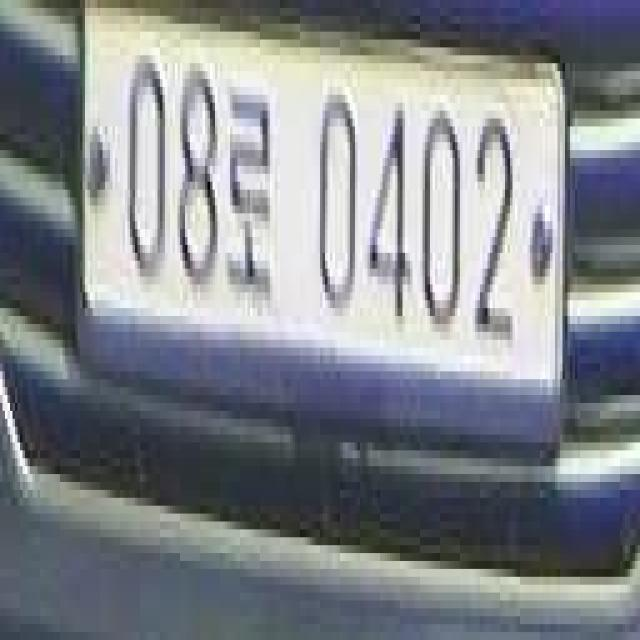illegal_plate: (78, 6, 572, 422)
